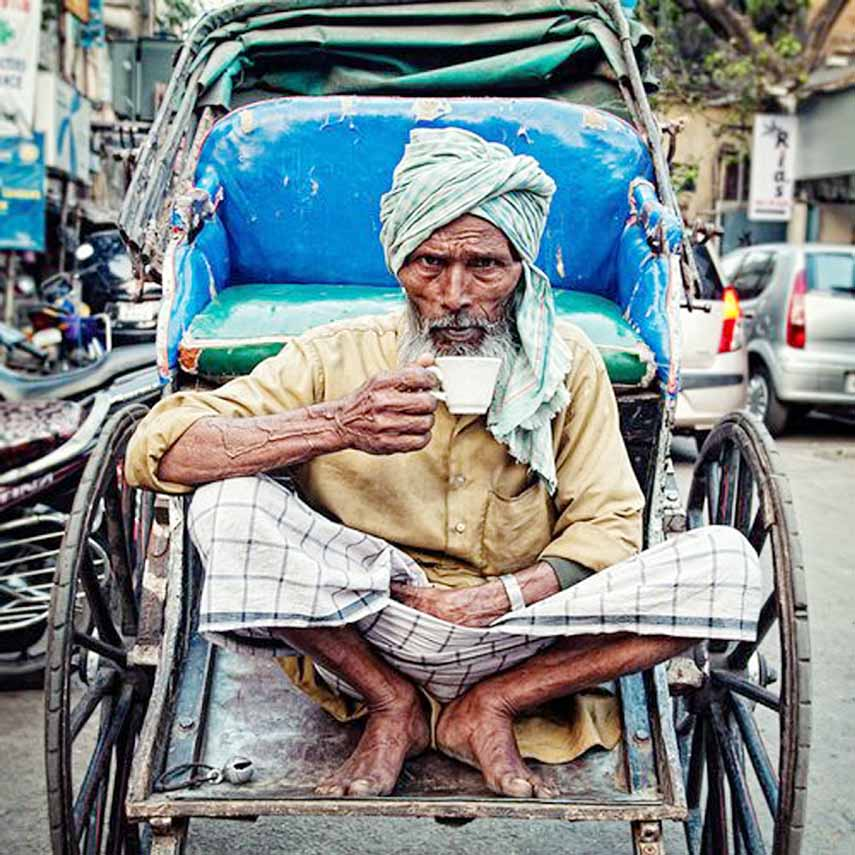Rickshaw: (70, 0, 814, 853)
